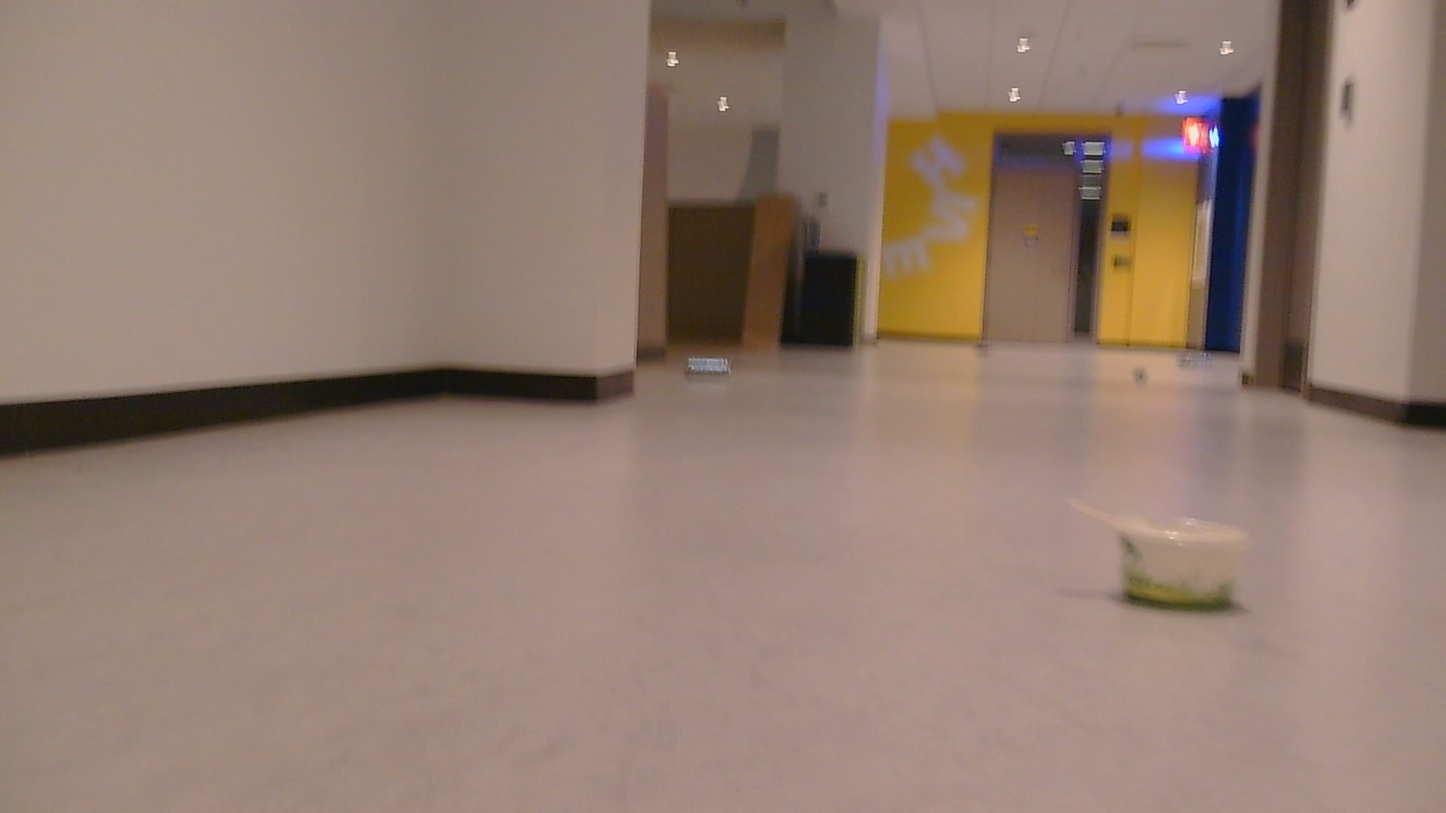carton: (1107, 500, 1260, 628), (685, 351, 743, 384), (975, 325, 1014, 362), (1119, 364, 1154, 395), (1184, 355, 1208, 374)
